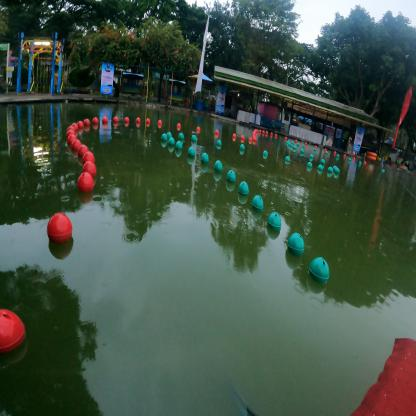green_buoy: (309, 257, 330, 283), (287, 231, 305, 255), (267, 212, 281, 232), (251, 194, 264, 213), (238, 180, 249, 195), (226, 169, 236, 183), (214, 159, 223, 173), (187, 147, 196, 158), (201, 152, 209, 164), (168, 136, 175, 147), (161, 133, 168, 143), (176, 140, 182, 151), (191, 134, 197, 142), (239, 143, 245, 151), (166, 132, 172, 139), (178, 132, 184, 139), (216, 139, 222, 146), (263, 150, 268, 156)
red_buoy: (0, 308, 28, 358), (47, 212, 72, 248), (77, 173, 94, 194), (83, 161, 97, 178), (83, 151, 95, 167), (71, 138, 82, 152), (78, 144, 89, 157), (66, 129, 76, 139), (70, 122, 78, 132), (68, 134, 76, 144), (67, 126, 75, 134), (76, 121, 84, 128), (92, 118, 99, 125), (84, 118, 90, 126), (113, 116, 119, 122), (102, 116, 108, 122), (136, 117, 141, 123), (125, 117, 130, 122), (196, 126, 201, 131), (146, 117, 150, 123), (158, 119, 162, 125), (177, 122, 181, 128), (215, 129, 219, 134)
